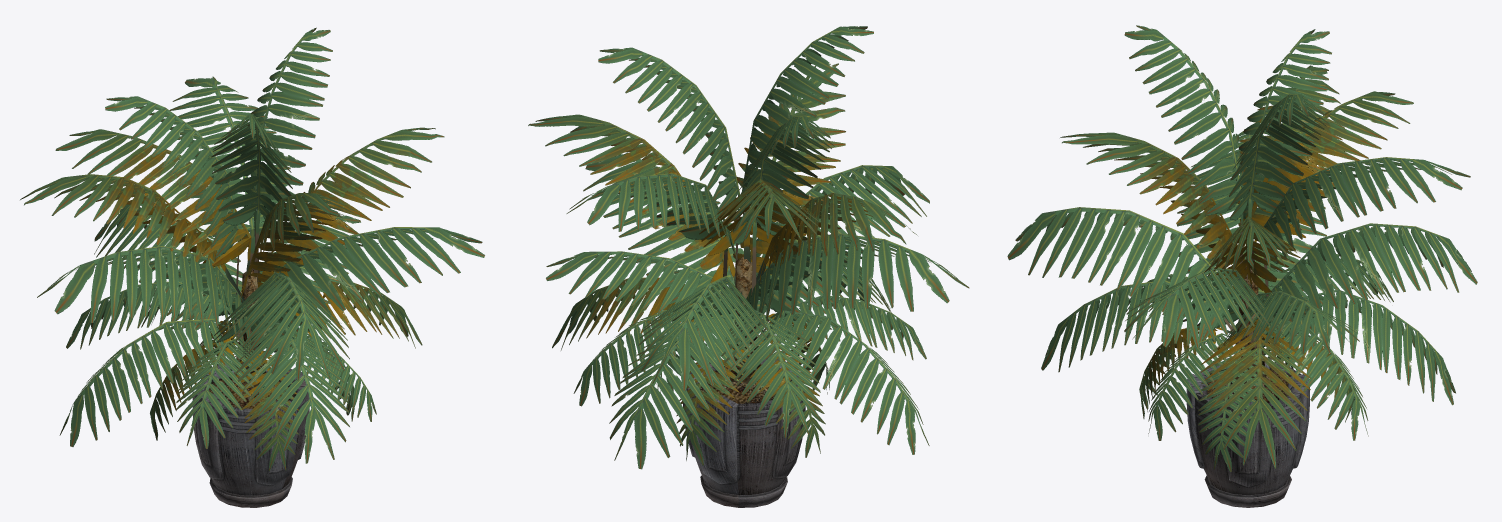
File: PalmaMaceta.fbx
3 renders of one model, left to right at view 1: azimuth 30°, elevation 25°; view 2: azimuth 150°, elevation 25°; view 3: azimuth 270°, elevation 25°, orthographic. The views are drawn at different scales.
Parts seen in each view (by area): view 1: Tree_Palm_Small; view 2: Tree_Palm_Small; view 3: Tree_Palm_Small.
Part boxes in pixels (x1,y1,x2,y2): Tree_Palm_Small: (20,27,484,507); Tree_Palm_Small: (528,26,969,507); Tree_Palm_Small: (1007,25,1477,507).
Bounding box in the file's own units: 384 × 377 × 376.
